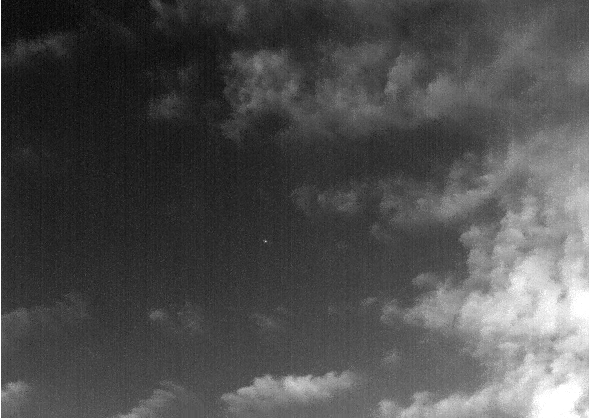dim target: (263, 239, 268, 244)
